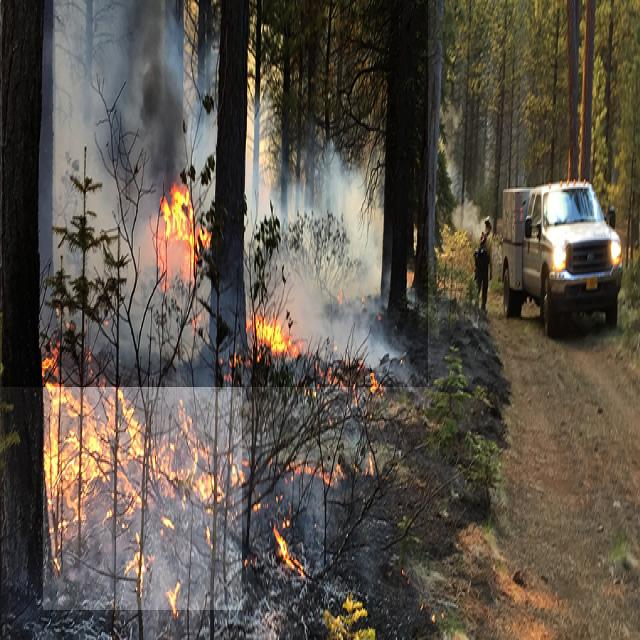Fire: (43, 339, 242, 610), (151, 180, 208, 294), (244, 314, 300, 366)
Smoke: (2, 0, 428, 387)
